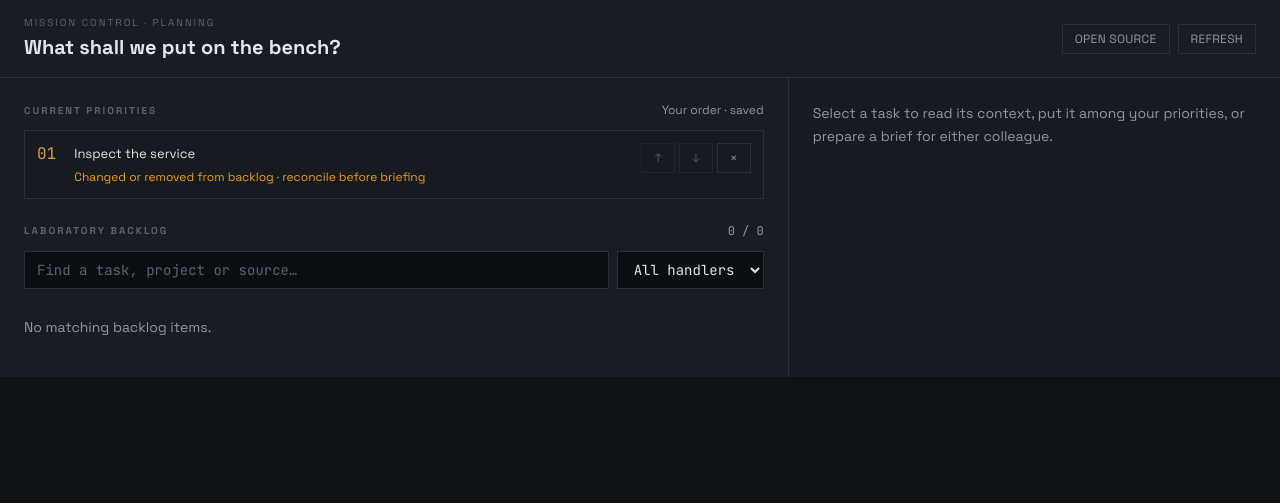
Test case: Mission Control planning › shows removed priorities and prevents preparing a stale task
Click the button that starts with "Inspect the service". click: click(135, 154)
box: [68,143,629,186]
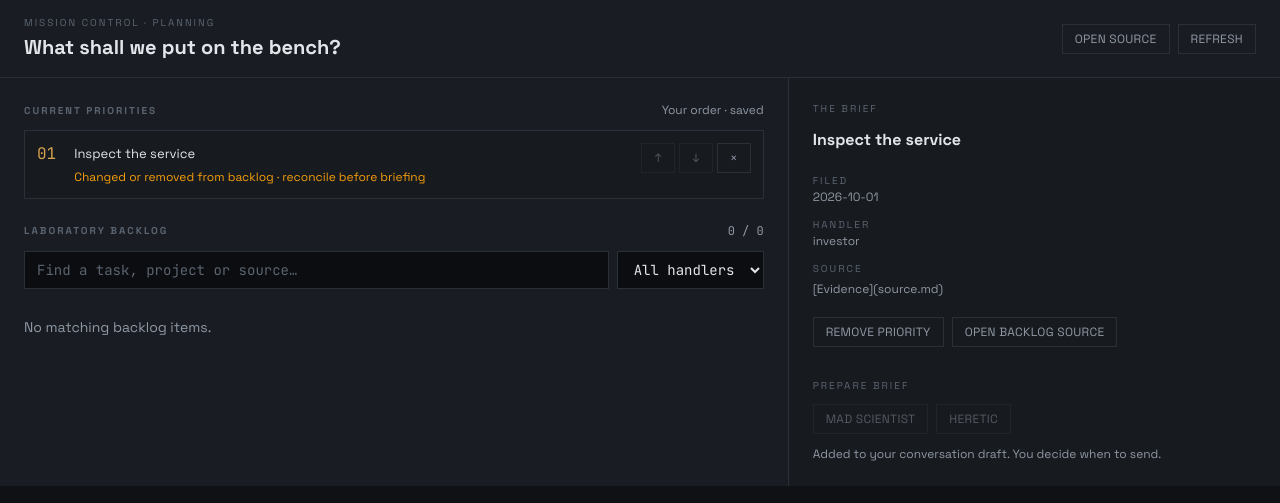
Now the button "Heretic" is disabled, box [936,404,1011,434]
